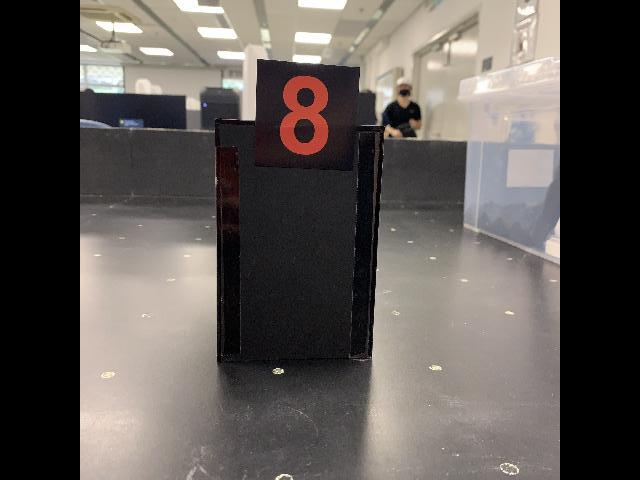eight: (253, 57, 361, 172)
